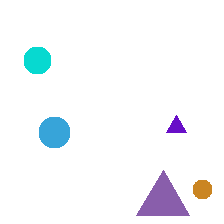circle: (39, 117, 69, 147), (24, 47, 50, 73), (193, 180, 211, 198)
triangle: (136, 170, 189, 215), (166, 115, 186, 132)
